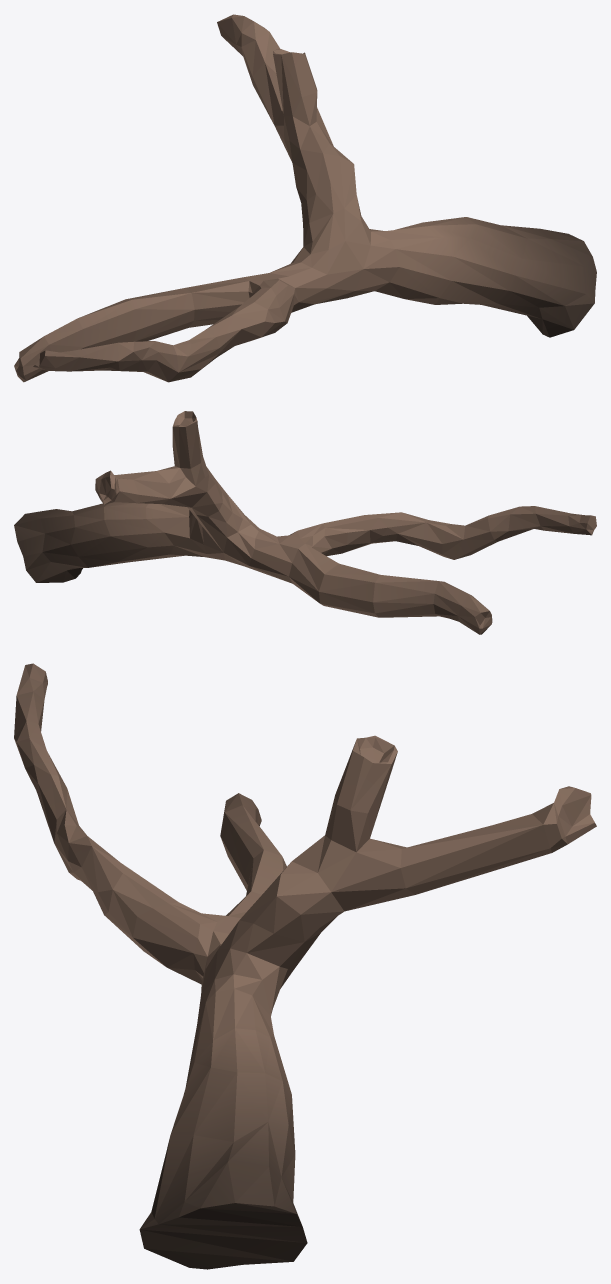
File: Jungle_Branch_A.fbx
The picture shows the model from 3 angles, top to bottom: view 1: azimuth 30°, elevation 25°; view 2: azimuth 150°, elevation 25°; view 3: azimuth 270°, elevation 25°; orthographic projection. The views are drawn at different scales.
Visible parts, largest first — view 1: Jungle_Branch_A; view 2: Jungle_Branch_A; view 3: Jungle_Branch_A.
Part boxes in pixels (bbox=[...]): Jungle_Branch_A: bbox=[14, 14, 596, 382]; Jungle_Branch_A: bbox=[14, 411, 596, 634]; Jungle_Branch_A: bbox=[14, 663, 596, 1269].
Size of the model in its own units: 10.78 by 4.83 by 6.4.
1 material, 1 textured.
